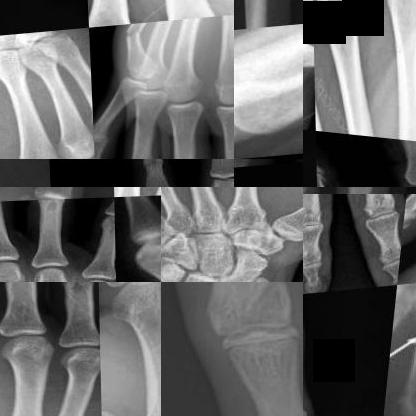fracture: (202, 282, 298, 344), (208, 204, 244, 235), (380, 0, 414, 27), (155, 0, 221, 12), (118, 27, 147, 54), (100, 397, 136, 415)
